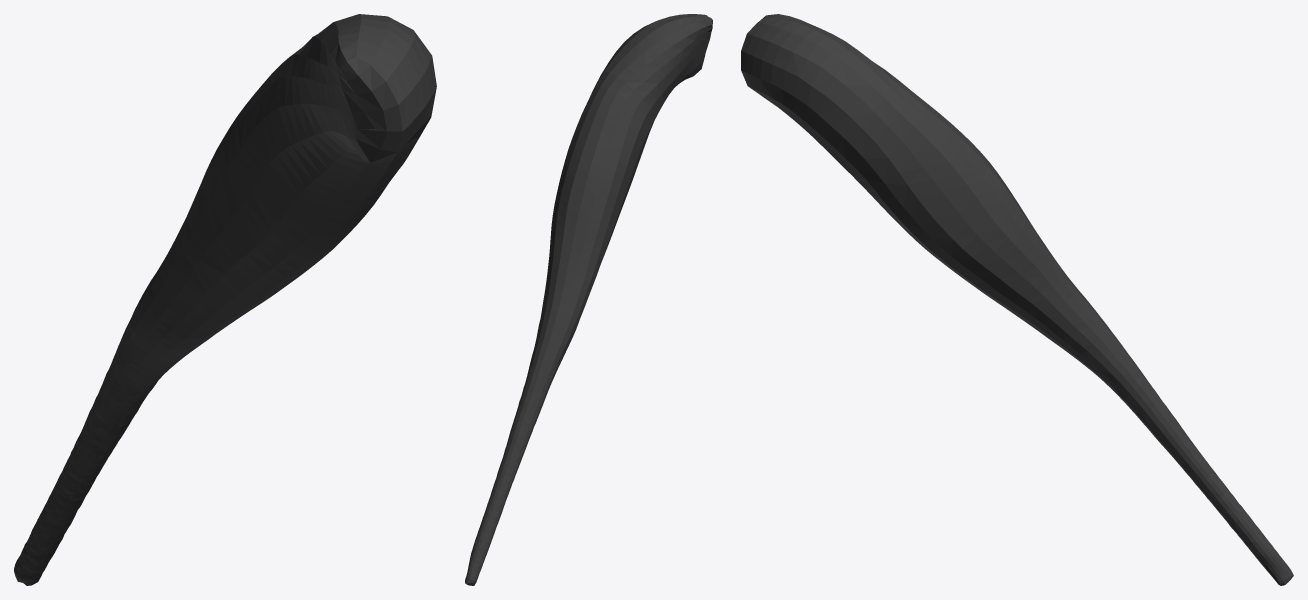
Rendered from Gastrocnemius.glb.
3 renders of one model, left to right at view 1: azimuth 30°, elevation 25°; view 2: azimuth 150°, elevation 25°; view 3: azimuth 270°, elevation 25°, orthographic. The views are drawn at different scales.
Visible parts, largest first — view 1: Gastrocnemius; view 2: Gastrocnemius; view 3: Gastrocnemius.
Part boxes in pixels (bbox=[...]): Gastrocnemius: bbox=[14, 14, 436, 585]; Gastrocnemius: bbox=[465, 14, 712, 585]; Gastrocnemius: bbox=[741, 14, 1293, 585].
Bounding box in the file's own units: 14.22 × 74.39 × 67.69.
1 material, 1 textured.
